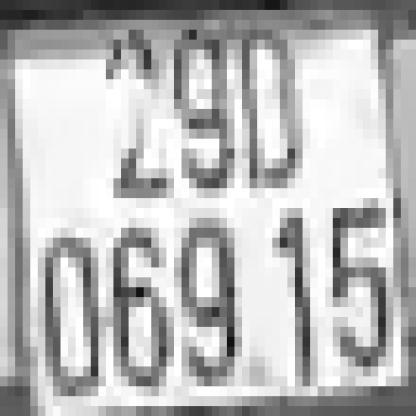0: (38, 228, 106, 386)
1: (257, 208, 318, 366)
5: (325, 198, 386, 367)
6: (106, 218, 174, 386)
9: (182, 208, 242, 376), (174, 30, 227, 188)
D: (234, 30, 302, 188)
